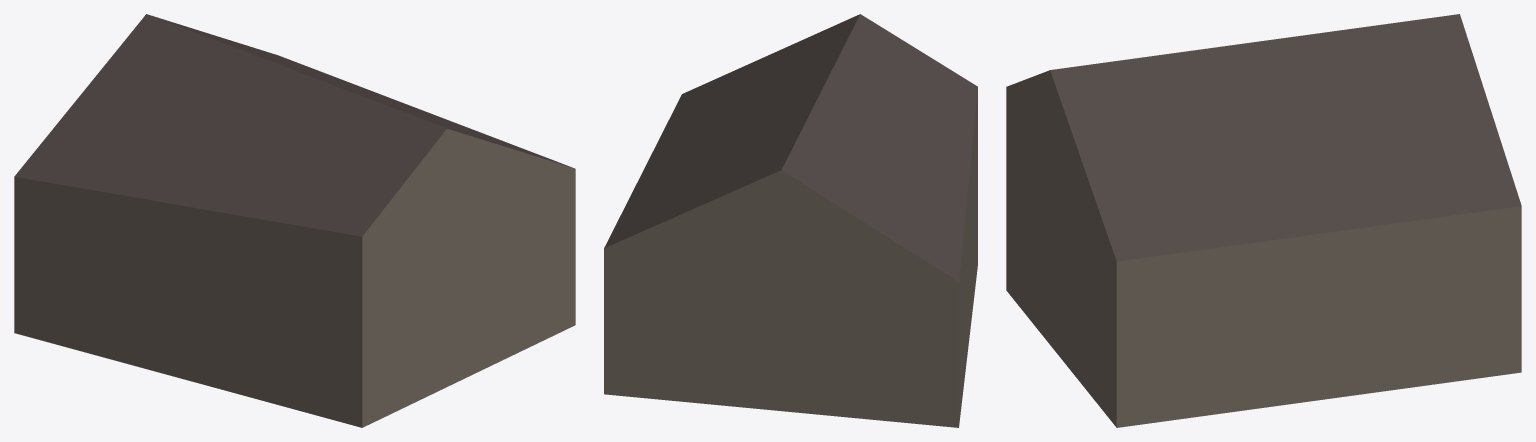
3 views of the same model, side by side, from view 1: azimuth 30°, elevation 25°; view 2: azimuth 150°, elevation 25°; view 3: azimuth 270°, elevation 25° (orthographic). The views are drawn at different scales.
Parts seen in each view (by area): view 1: HP-w1198842486; view 2: HP-w1198842486; view 3: HP-w1198842486.
Part boxes in pixels (box(x1,y1,x2,y2)): HP-w1198842486: box(14, 14, 575, 427); HP-w1198842486: box(604, 14, 977, 427); HP-w1198842486: box(1006, 14, 1521, 427).
Size of the model in its own units: 17.23 by 9.91 by 16.85.
